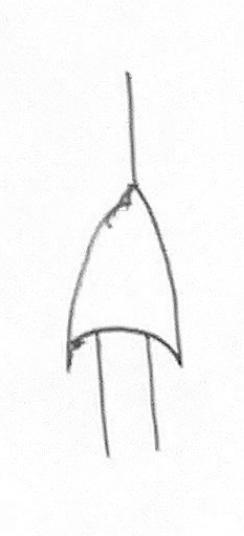OR: (49, 147, 211, 385)
